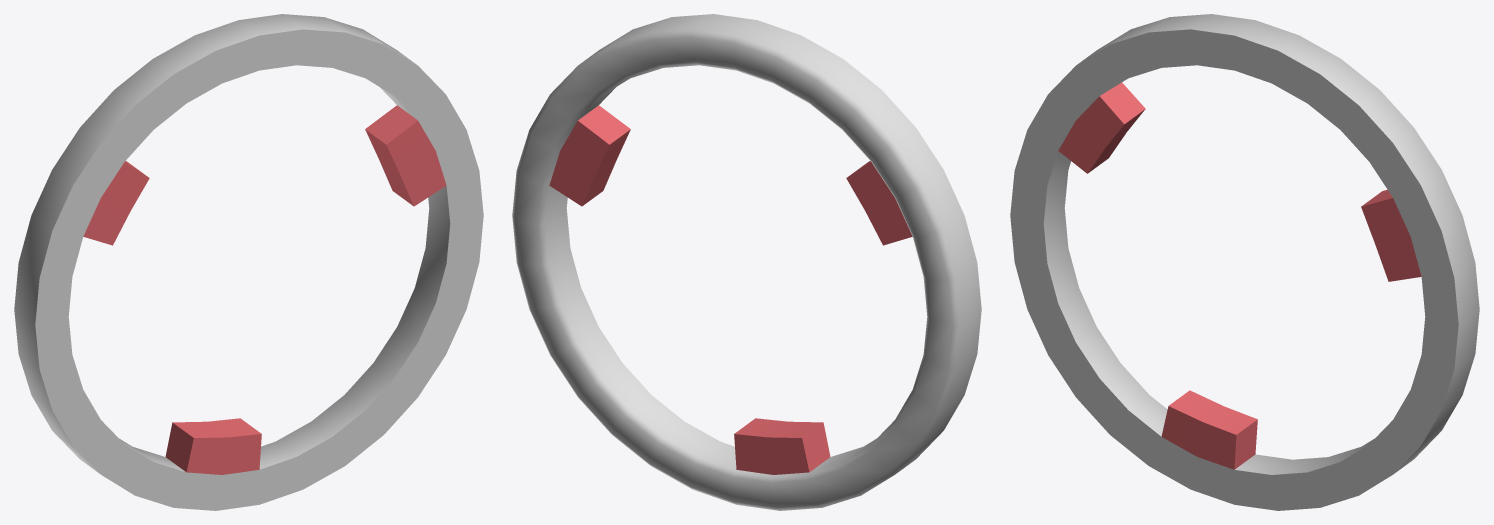
File: CircleOfDeath.fbx
The picture shows the model from 3 angles, left to right: view 1: azimuth 30°, elevation 25°; view 2: azimuth 150°, elevation 25°; view 3: azimuth 330°, elevation 25°; orthographic projection.
Parts seen in each view (by area): view 1: circle of death, Cylinder.016, Cylinder.011, Cylinder.017; view 2: circle of death, Cylinder.016, Cylinder.011, Cylinder.017; view 3: circle of death, Cylinder.011, Cylinder.017, Cylinder.016.
Boxes of the visible parts, x1,y1,x2,y2 form: circle of death: [14, 14, 483, 510]; Cylinder.016: [365, 105, 446, 206]; Cylinder.011: [165, 418, 261, 474]; Cylinder.017: [83, 161, 149, 245]; circle of death: [512, 14, 981, 510]; Cylinder.016: [549, 105, 630, 206]; Cylinder.011: [734, 418, 830, 474]; Cylinder.017: [846, 161, 912, 245]; circle of death: [1010, 14, 1479, 510]; Cylinder.011: [1161, 390, 1257, 469]; Cylinder.017: [1058, 82, 1145, 173]; Cylinder.016: [1361, 189, 1421, 281].
Bounding box in the file's own units: 484 × 484 × 45.2.
